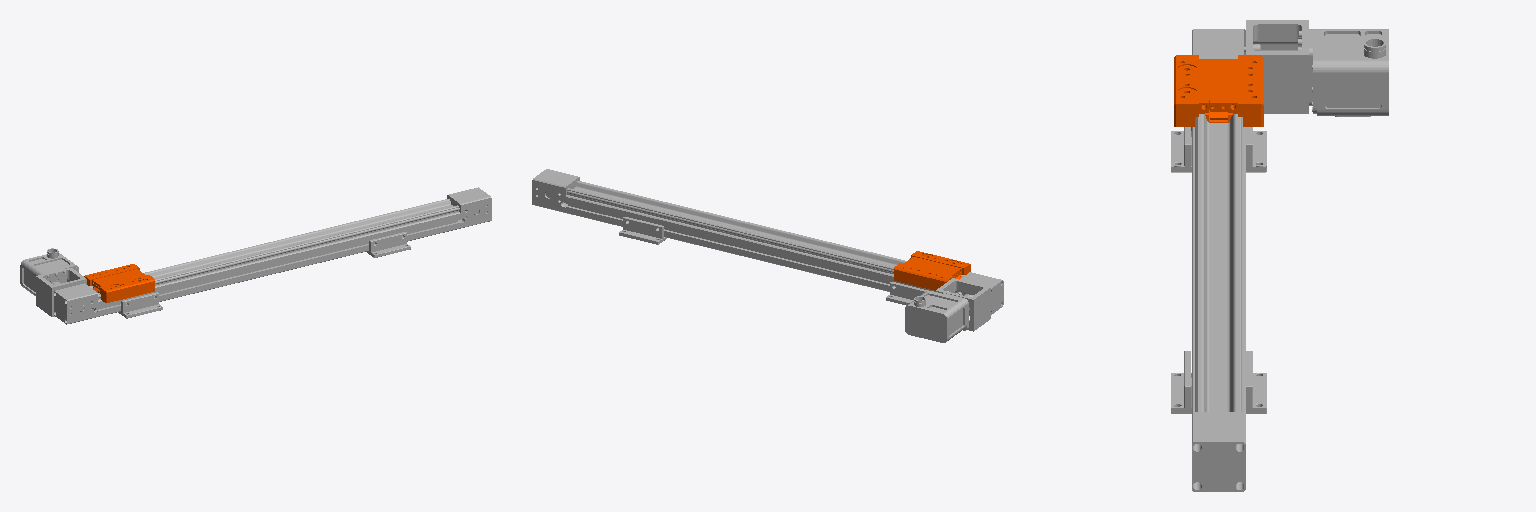
robot.urdf — um:
<?xml version="1.0"?>
<robot name="um">
    <link name="base_link">
        <visual>
            <origin xyz="0 0 0" rpy="0 0 0"/>
            <geometry>
                <mesh filename="package://um_description/meshes/base.STL" scale="1 1 1"/>
            </geometry>
            <material name="gray">
                <color rgba="0.75 0.75 0.75 1"/>
            </material>
        </visual>
    </link>

    <joint name="joint1" type="prismatic">
        <parent link="base_link"/>
        <child link="link1"/>
        <origin xyz="0 0 0"/>
        <axis xyz="1 0 0"/>
        <limit effort="100" lower="0" upper="0.59" velocity="1.0"/>
    </joint>

    <link name="link1">
        <visual>
            <origin xyz="0.055 0 0.005" rpy="0 0 0"/>
            <geometry>
                <mesh filename="package://um_description/meshes/link1a.STL" scale="1 1 1"/>
            </geometry>
            <material name="yellow">
                <color rgba="1 0.4 0 1"/>
            </material>
        </visual>
    </link>
</robot>

--- What the picture shows (computed from the rendered views, not written in the file) ---
Views: 3 orthographic renders of the robot side by side, from view 1: azimuth 30°, elevation 25°; view 2: azimuth 150°, elevation 25°; view 3: azimuth 270°, elevation 25°.
Model um with 2 links and 1 joints (1 prismatic), rooted at base_link, posed all joints at 0.
Visible links, largest first — view 1: base_link, link1; view 2: base_link, link1; view 3: base_link, link1.
Boxes of the visible links, x1,y1,x2,y2 form: base_link: (20, 187, 491, 324); link1: (84, 264, 154, 302); base_link: (532, 169, 1003, 342); link1: (894, 251, 970, 290); base_link: (1171, 20, 1388, 491); link1: (1174, 55, 1263, 126).
Bounding box of the posed robot: 0.817 × 0.1819 × 0.0662 m (x, y, z).
Meshes: 2 distinct files referenced, 2 mesh visuals loaded (2 binary STL).